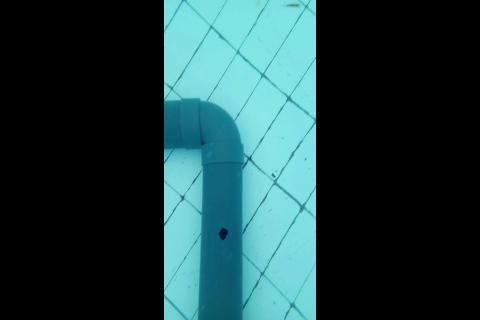kebocoran: (217, 225, 229, 243)
